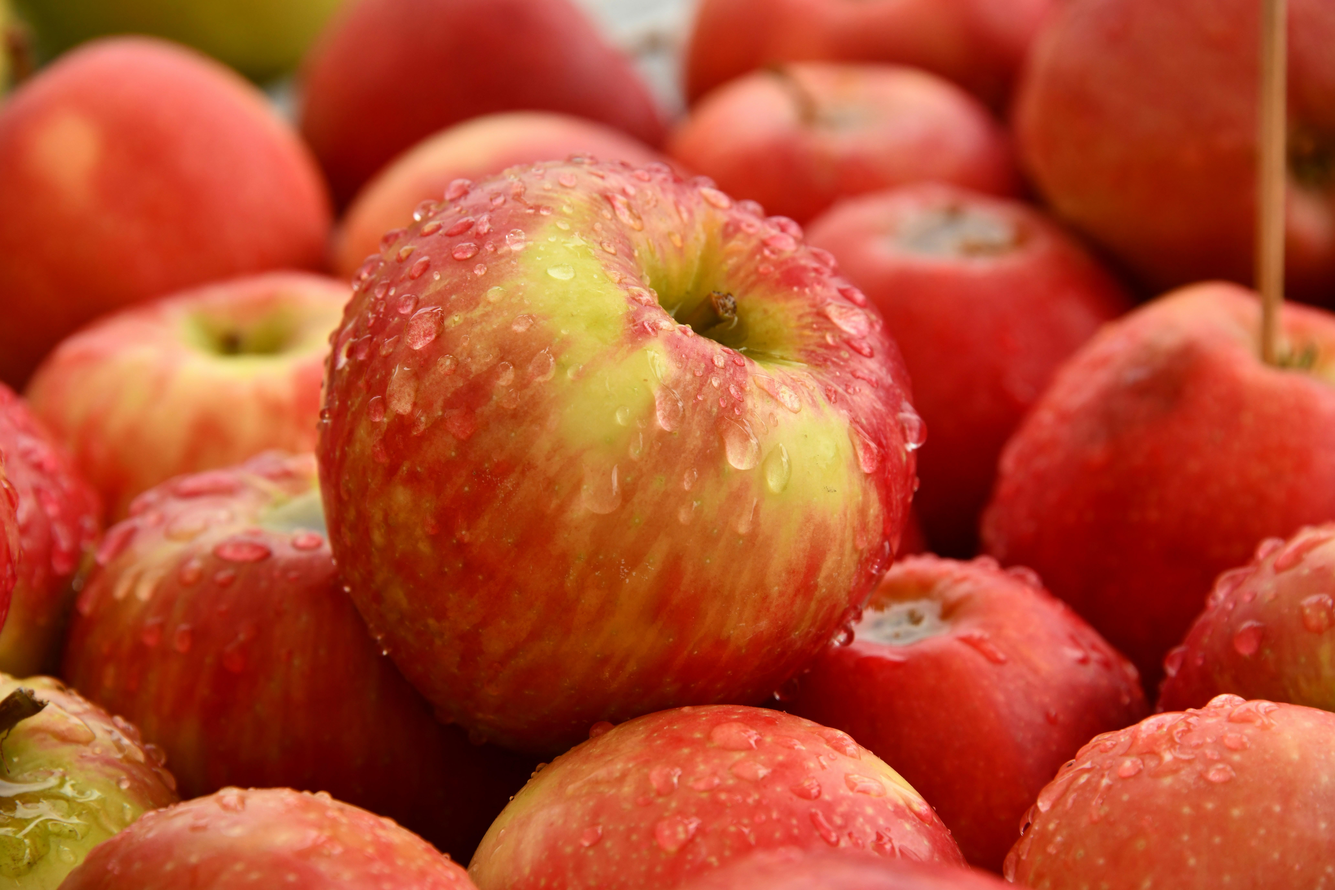apple: (329, 156, 898, 724), (72, 487, 417, 801), (998, 295, 1322, 605), (7, 40, 323, 292), (478, 746, 970, 882), (36, 305, 350, 483)
orange: (312, 569, 316, 575), (346, 566, 347, 570)
